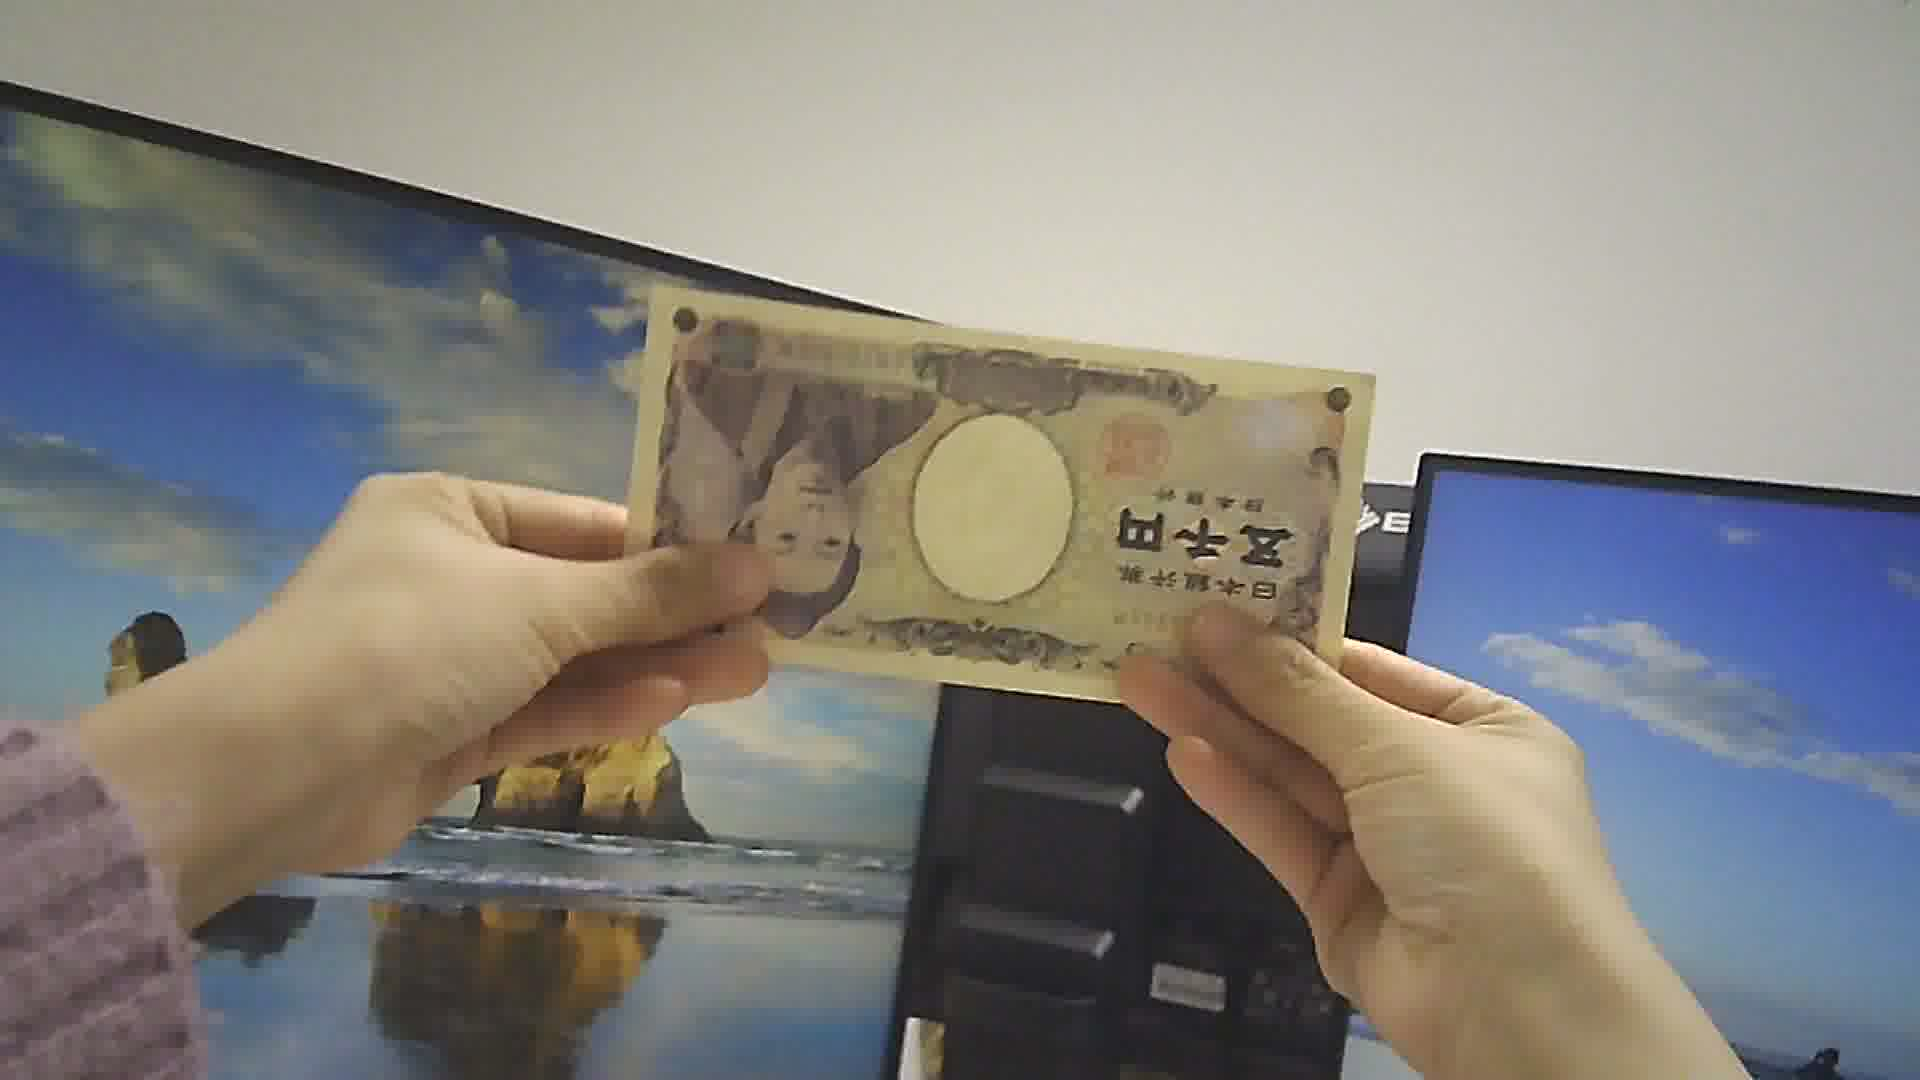5,000 Yen: (607, 278, 1399, 770)
